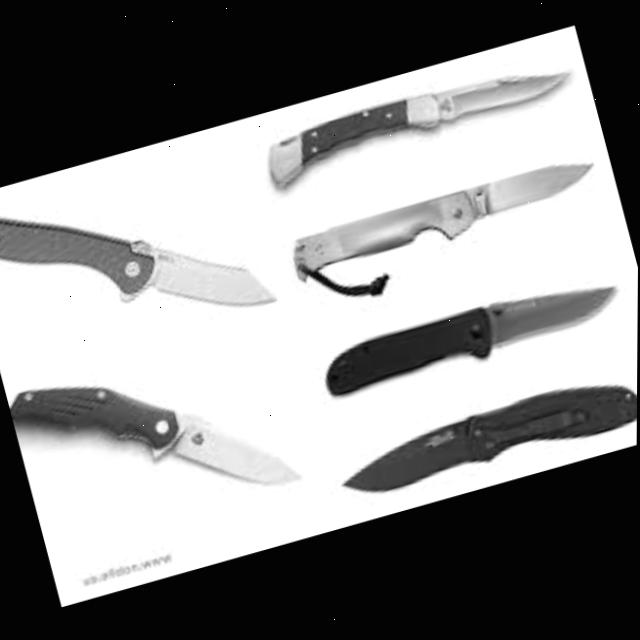knife: (6, 322, 305, 550), (0, 144, 280, 377), (287, 151, 613, 314), (260, 50, 579, 187), (333, 367, 638, 504), (318, 268, 627, 400)
